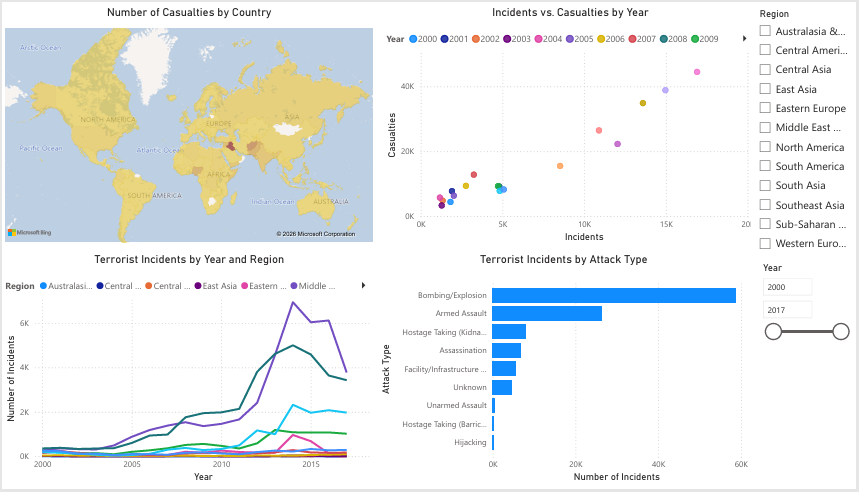

The dashboard page shown, as its layout file describes it:
{"tool":"powerbi","page":{"name":"Terrorism Dashboard","canvas":[1280,720],"ordinal":0},"visuals":[{"type":"filledMap","title":"Number of Casualties by Country","fields":{"Category":["global_terrorism_2000_2017_subset.country_txt"]},"box":[0,0,562,360],"z":0},{"type":"lineChart","title":"Terrorist Incidents by Year and Region","fields":{"Category":["global_terrorism_2000_2017_subset.iyear"],"Y":["CountNonNull(global_terrorism_2000_2017_subset.country_txt)"],"Series":["global_terrorism_2000_2017_subset.region_txt"]},"box":[0,370,562,350],"z":1000},{"type":"scatterChart","title":"Incidents vs. Casualties by Year","fields":{"Series":["global_terrorism_2000_2017_subset.iyear"],"X":["global_terrorism_2000_2017_subset.country_txt"],"Y":["Sum(global_terrorism_2000_2017_subset.nkill)"]},"box":[572,0,562,360],"z":2000},{"type":"clusteredBarChart","title":"Terrorist Incidents by Attack Type","fields":{"Category":["global_terrorism_2000_2017_subset.attacktype1_txt"],"Y":["CountNonNull(global_terrorism_2000_2017_subset.country_txt)"]},"box":[562.2,369.8,562,350],"z":3000},{"type":"slicer","fields":{"Values":["global_terrorism_2000_2017_subset.region_txt"]},"box":[1124.4,0,150.6,381.5],"z":3001},{"type":"slicer","fields":{"Values":["global_terrorism_2000_2017_subset.iyear"]},"box":[1129.4,381.5,151,339],"z":3002}]}

Visuals, with their boxes in screenshot pixels (x1, y1, x2, y2), scaled from the page's 1280x720 canvas onto the 859x492 screenshot:
"Number of Casualties by Country" filledMap: bbox=(0, 0, 377, 246)
"Terrorist Incidents by Year and Region" lineChart: bbox=(0, 253, 377, 491)
"Incidents vs. Casualties by Year" scatterChart: bbox=(384, 0, 761, 246)
"Terrorist Incidents by Attack Type" clusteredBarChart: bbox=(377, 253, 754, 491)
slicer - global_terrorism_2000_2017_subset.region_txt: bbox=(755, 0, 856, 261)
slicer - global_terrorism_2000_2017_subset.iyear: bbox=(758, 261, 858, 491)
